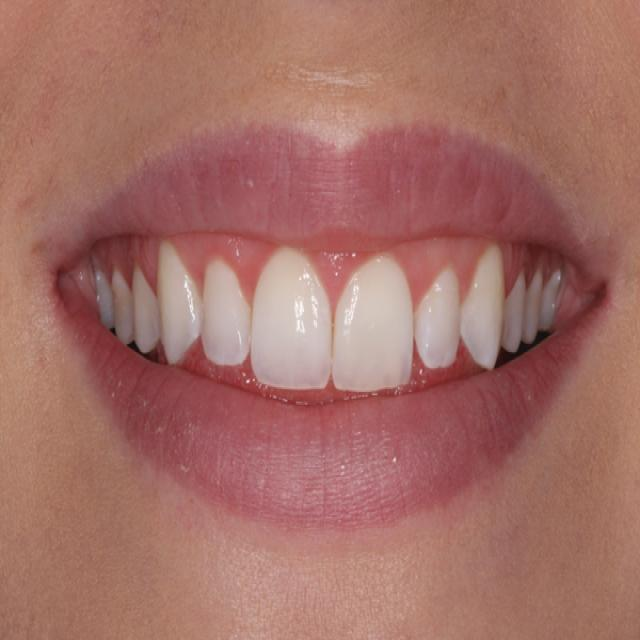tooth: (250, 255, 330, 388), (336, 257, 414, 388), (197, 250, 251, 370), (158, 237, 206, 363), (463, 251, 511, 371), (415, 266, 462, 366), (128, 266, 164, 350), (502, 275, 528, 354), (523, 270, 548, 349), (111, 270, 134, 348), (92, 266, 115, 334), (540, 269, 558, 333)
